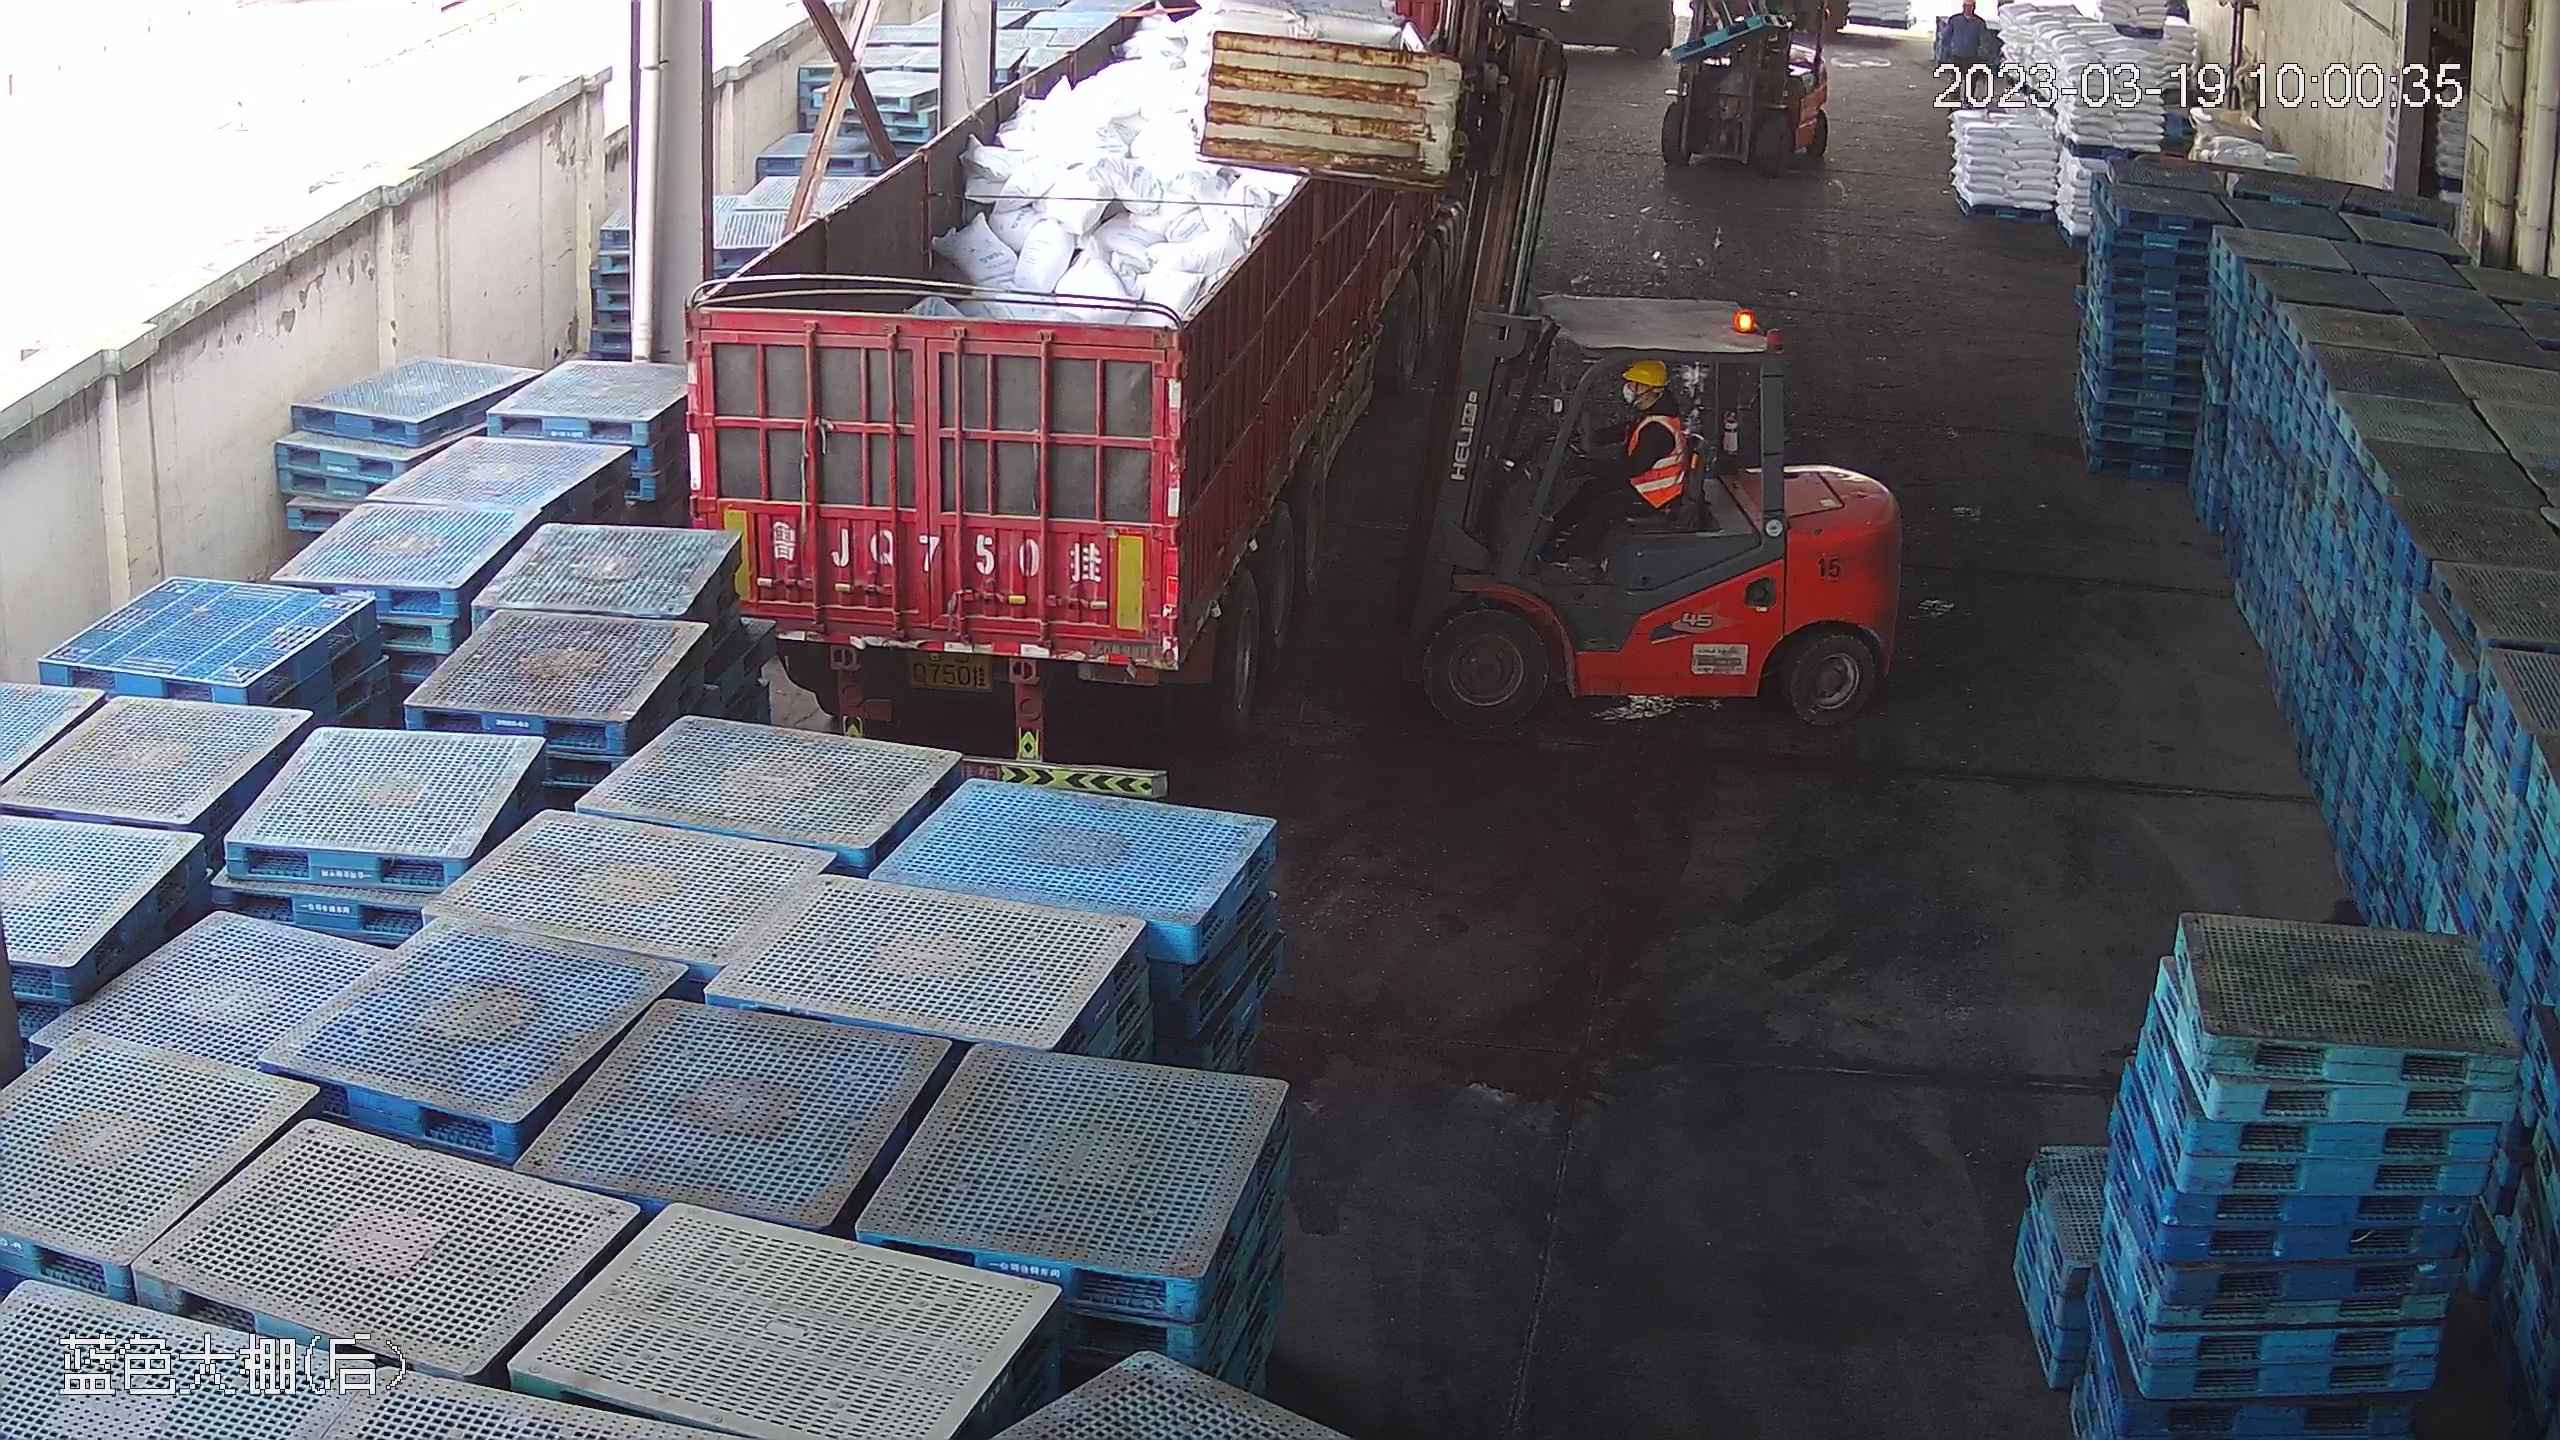head: (1611, 356, 1687, 450)
helmet: (1621, 356, 1668, 387)
people: (1547, 354, 1696, 572)
truck: (690, 1, 1510, 783)
